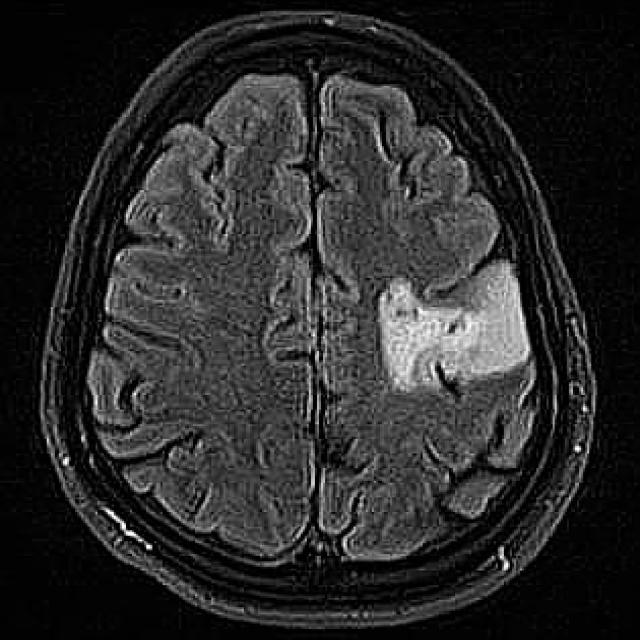Tumor-Cell: (360, 263, 526, 404)
